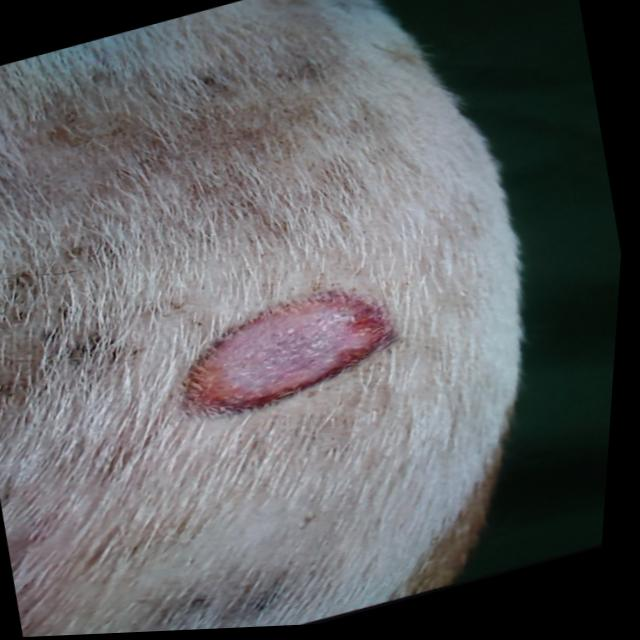ringworm: (125, 249, 429, 460)
